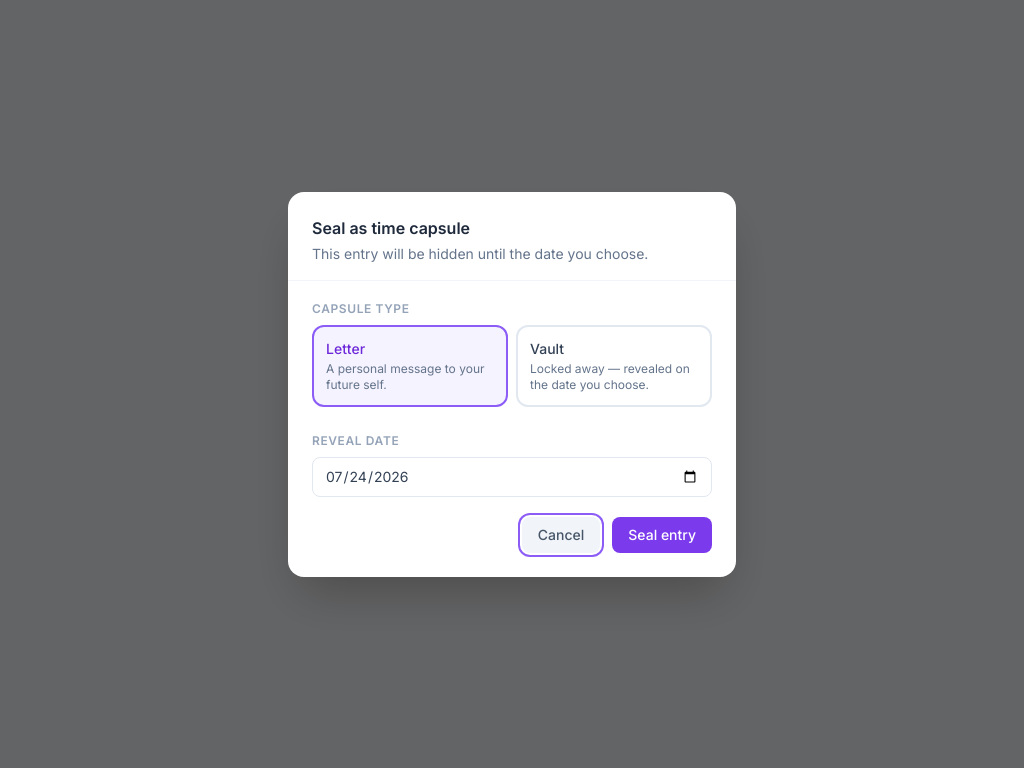
SealEntryModal › error message has role=alert when present
Click the button "Seal entry". click: point(662, 534)
box: [612,516,712,552]
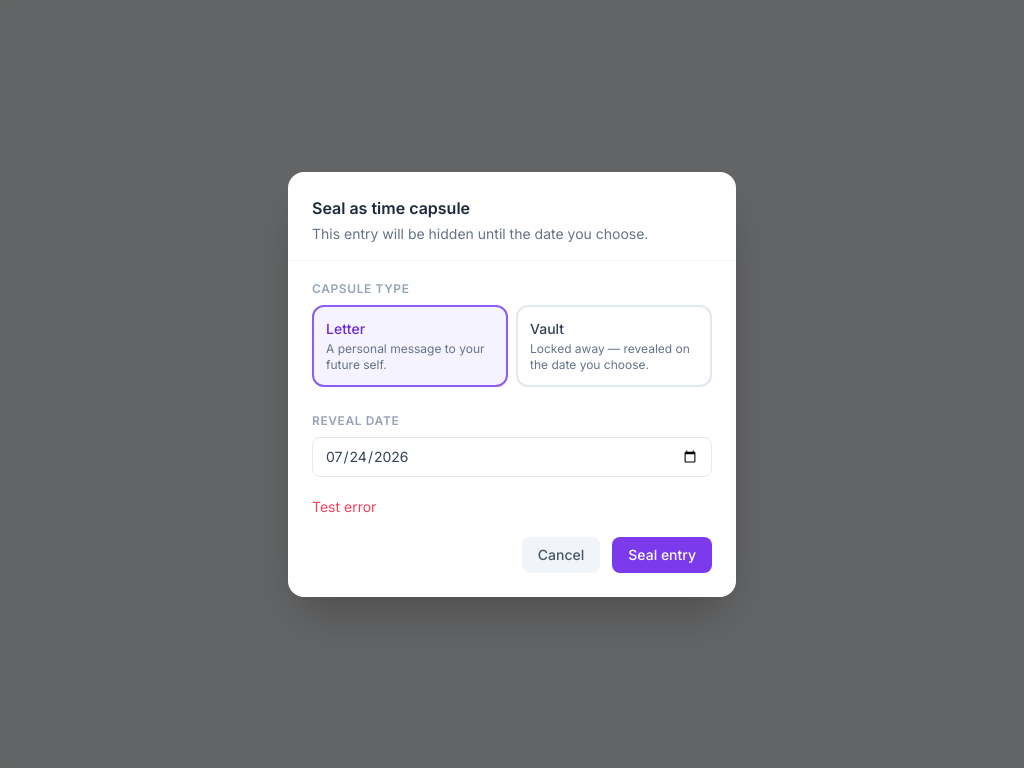
Result: the message "Test error" is shown at [312,498,376,514]
